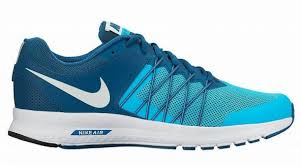nike: (22, 67, 111, 109)
